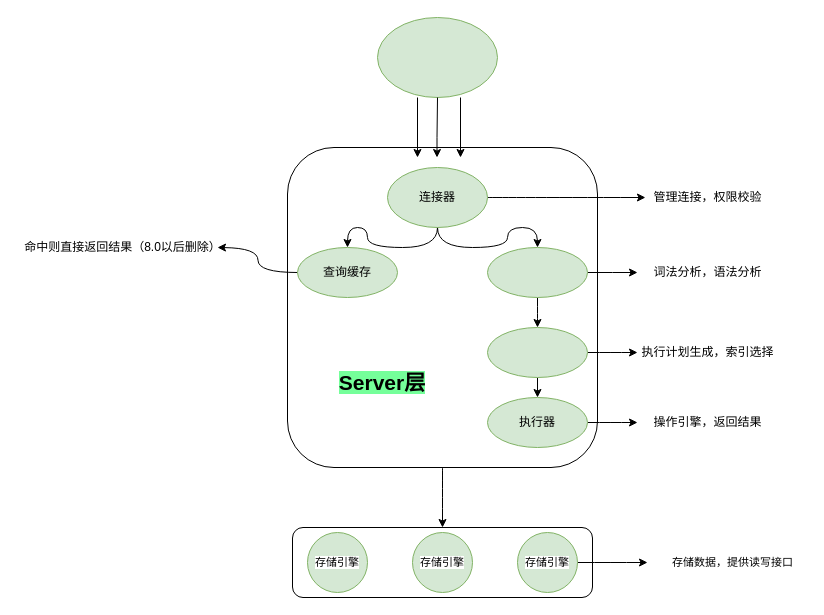
The diagram is 824 pixels wide and 615 high, and some of its shapes have lost their labels. Here are the shapes that lost their labels. From the top down, the centre of each, then its label:
At (437,57): "客户端".
At (537,272): "分析器".
At (537,352): "优化器".
